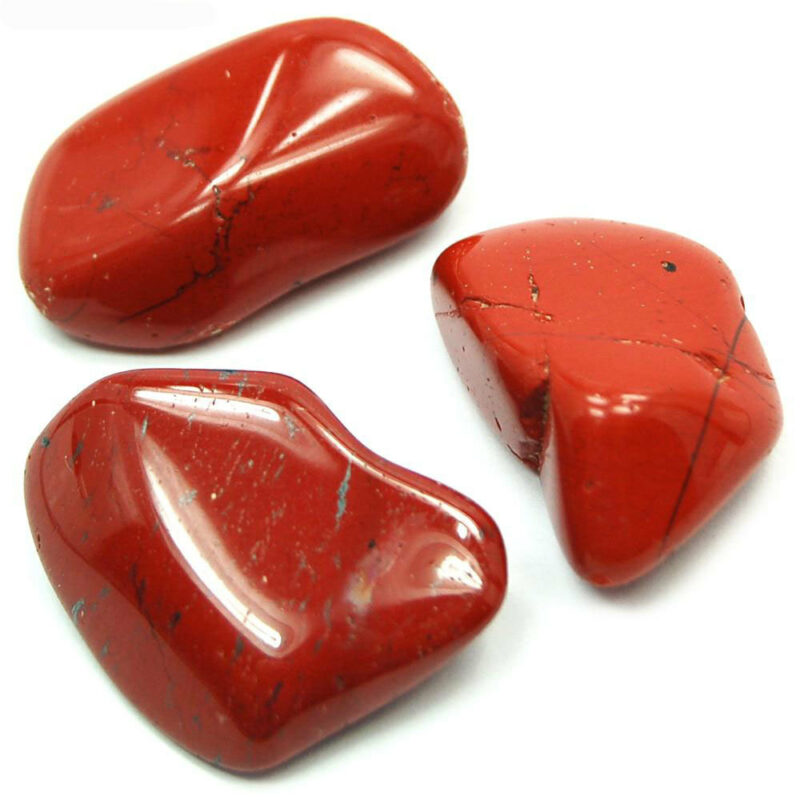Red_Jasper: (21, 366, 509, 777)
